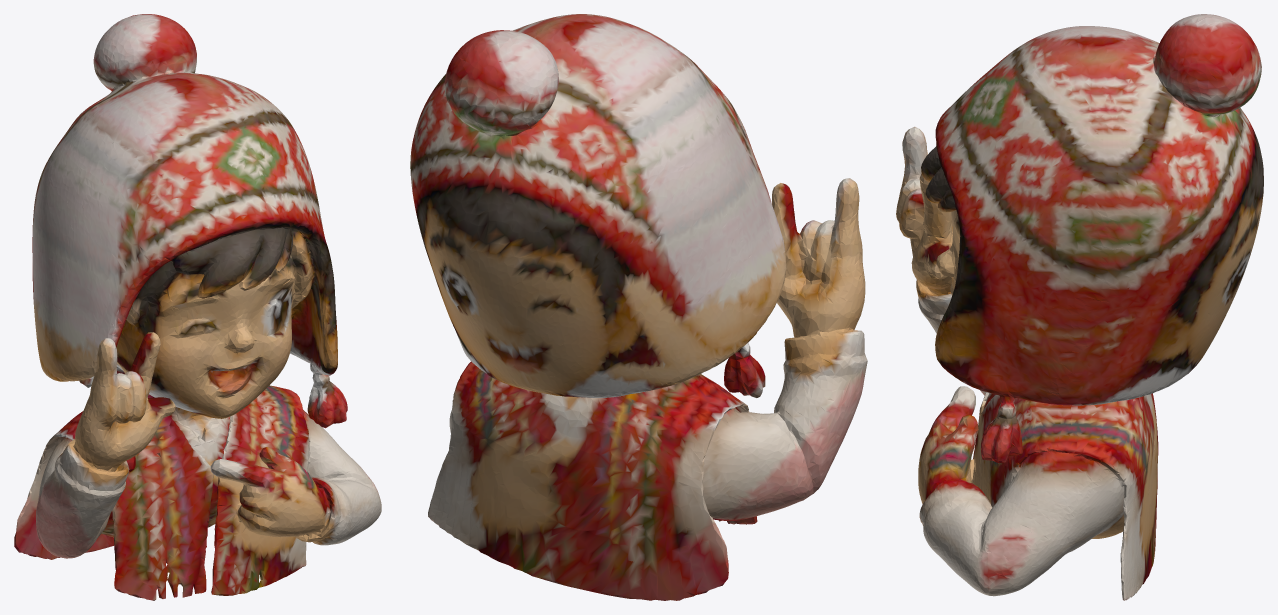
The model's file is chaski_hunyuan3d_preview.glb.
The picture shows the model from 3 angles, left to right: view 1: azimuth 30°, elevation 25°; view 2: azimuth 150°, elevation 25°; view 3: azimuth 270°, elevation 25°; orthographic projection. The views are drawn at different scales.
Visible parts, largest first — view 1: geometry_0; view 2: geometry_0; view 3: geometry_0.
Part boxes in pixels (box(x1,y1,x2,y2)): geometry_0: box(14, 14, 381, 600); geometry_0: box(410, 14, 867, 600); geometry_0: box(896, 14, 1263, 600).
Size of the model in its own units: 1.39 by 1.96 by 1.2.
